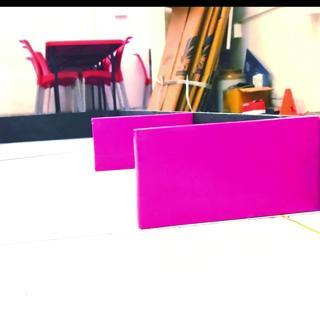xparking: (137, 133, 320, 225), (92, 117, 134, 166)
